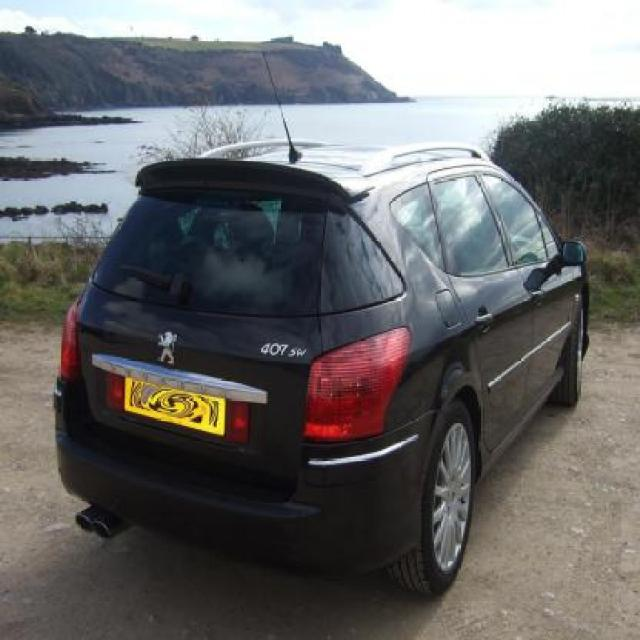License-Plates: (125, 375, 225, 437)
